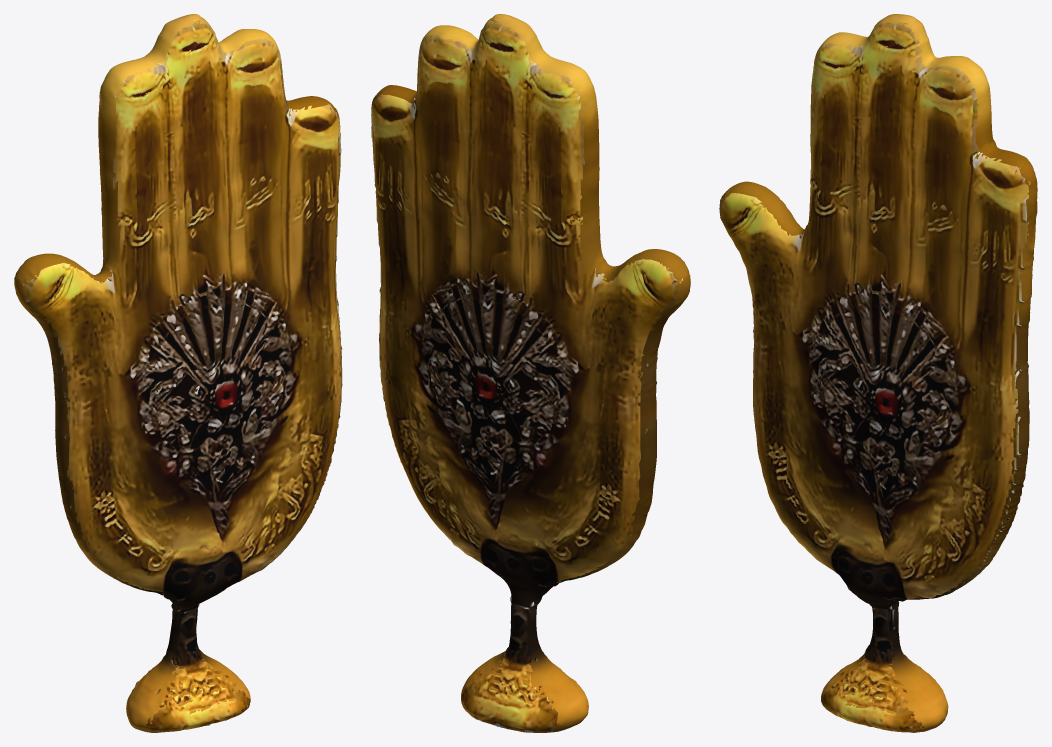
File: kfl-2146.glb
3 views of the same model, side by side, from view 1: azimuth 30°, elevation 25°; view 2: azimuth 150°, elevation 25°; view 3: azimuth 330°, elevation 25° (orthographic).
Visible parts, largest first — view 1: kfl-2146; view 2: kfl-2146; view 3: kfl-2146.
Part boxes in pixels (x1,y1,x2,y2): kfl-2146: [14, 14, 342, 732]; kfl-2146: [371, 14, 690, 732]; kfl-2146: [719, 14, 1037, 732].
Size of the model in its own units: 0.4727 by 0.9967 by 0.1249.
Materials: 4 (4 with a texture image).
